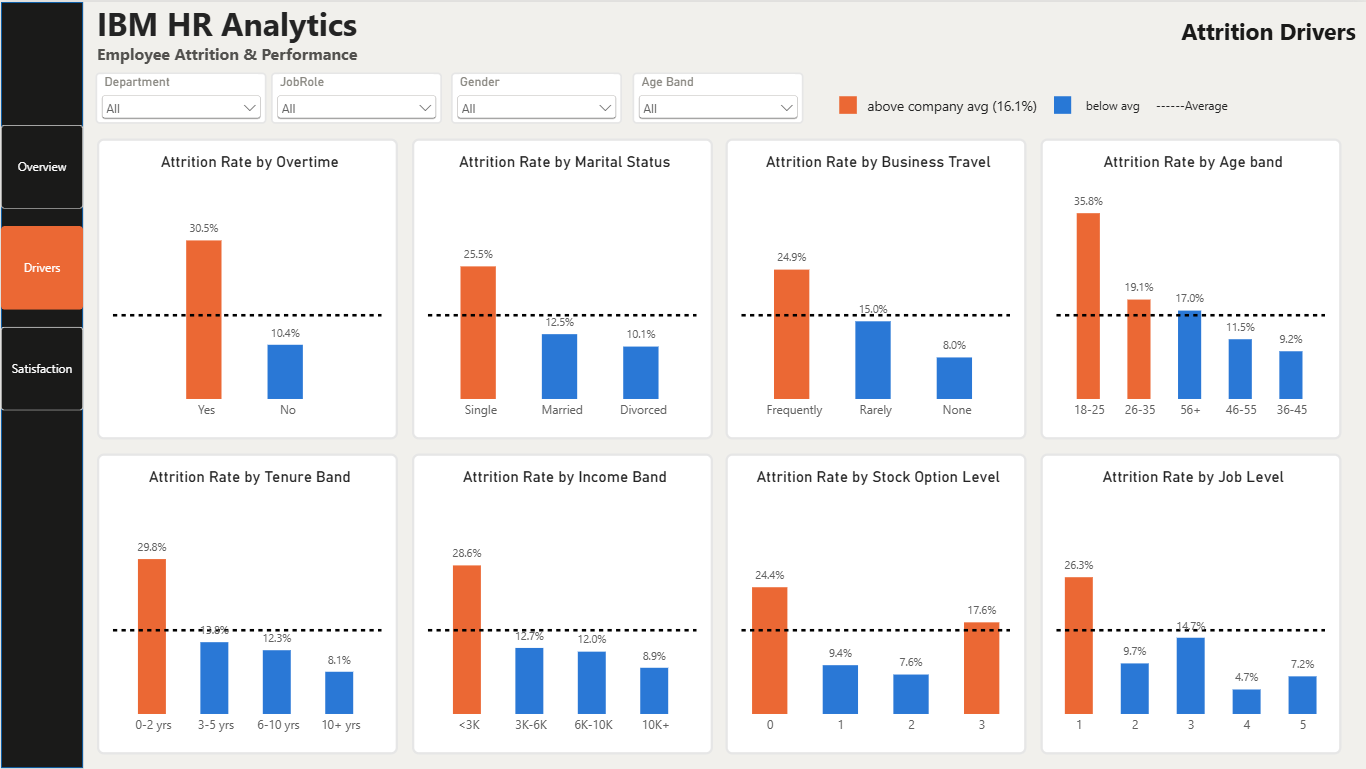

What the dashboard file says about the page in this screenshot:
{"tool":"powerbi","page":{"name":"Drivers","canvas":[1600,900],"ordinal":1},"visuals":[{"type":"shape","box":[0,0,96,896],"z":0},{"type":"shape","box":[980,110,20,20],"z":0,"group":"g1"},{"type":"shape","box":[1230,110,20,20],"z":1000,"group":"g1"},{"type":"pageNavigator","box":[0,144,96,336],"z":1000},{"type":"textbox","box":[112,0,560,64],"z":2000},{"type":"textbox","box":[1008,110,208,80],"z":2000,"group":"g1"},{"type":"textbox","box":[112,48,560,64],"z":3000},{"type":"textbox","box":[1264,110,80,32],"z":3000,"group":"g1"},{"type":"textbox","box":[1168,16,416,48],"z":4000},{"type":"textbox","box":[1350,110,140,24],"z":4000,"group":"g1"},{"type":"slicer","fields":{"Values":["Fact_Employees.Department"]},"box":[110,82,200,60],"z":5000},{"type":"slicer","fields":{"Values":["Fact_Employees.JobRole"]},"box":[316,82,200,60],"z":6000},{"type":"slicer","fields":{"Values":["Fact_Employees.Gender"]},"box":[526,82,200,60],"z":7000},{"type":"slicer","fields":{"Values":["Fact_Employees.Age Band"]},"box":[738,82,200,60],"z":8000},{"type":"group","id":"g1","title":"Group 1","box":[980,110,510,80],"z":9000},{"type":"clusteredColumnChart","title":"Attrition Rate by Overtime","fields":{"Category":["Fact_Employees.OverTime"],"Y":["Measures_.Attrition Rate%"]},"box":[112,160,352,352],"z":10000},{"type":"clusteredColumnChart","title":"Attrition Rate by Marital Status","fields":{"Category":["Fact_Employees.MaritalStatus"],"Y":["Measures_.Attrition Rate%"]},"box":[480,160,352,352],"z":11000},{"type":"clusteredColumnChart","title":"Attrition Rate by Income Band","fields":{"Category":["Fact_Employees.Income Band"],"Y":["Measures_.Attrition Rate%"]},"box":[480,528,352,352],"z":12000},{"type":"clusteredColumnChart","title":"Attrition Rate by Tenure Band","fields":{"Category":["Fact_Employees.Tenure Band"],"Y":["Measures_.Attrition Rate%"]},"box":[112,528,352,352],"z":13000},{"type":"clusteredColumnChart","title":"Attrition Rate by Business Travel","fields":{"Category":["Fact_Employees.Travel Label"],"Y":["Measures_.Attrition Rate%"]},"box":[848,160,352,352],"z":14000},{"type":"clusteredColumnChart","title":"Attrition Rate by Stock Option Level","fields":{"Category":["Fact_Employees.StockOptionLevel"],"Y":["Measures_.Attrition Rate%"]},"box":[848,528,352,352],"z":15000},{"type":"clusteredColumnChart","title":"Attrition Rate by Age band","fields":{"Category":["Fact_Employees.Age Band"],"Y":["Measures_.Attrition Rate%"]},"box":[1216,160,352,352],"z":16000},{"type":"clusteredColumnChart","title":"Attrition Rate by Job Level","fields":{"Category":["Fact_Employees.JobLevel"],"Y":["Measures_.Attrition Rate%"]},"box":[1216,528,352,352],"z":17000}]}

Visuals, with their boxes in screenshot pixels (x1, y1, x2, y2), scaled from the page's 1600x900 canvas onto the 1366x769 screenshot:
shape: box(0, 0, 82, 766)
shape: box(837, 94, 854, 111)
shape: box(1050, 94, 1067, 111)
pageNavigator: box(0, 123, 82, 410)
textbox: box(96, 0, 574, 55)
textbox: box(861, 94, 1038, 162)
textbox: box(96, 41, 574, 96)
textbox: box(1079, 94, 1147, 121)
textbox: box(997, 14, 1352, 55)
textbox: box(1153, 94, 1272, 114)
slicer - Fact_Employees.Department: box(94, 70, 265, 121)
slicer - Fact_Employees.JobRole: box(270, 70, 441, 121)
slicer - Fact_Employees.Gender: box(449, 70, 620, 121)
slicer - Fact_Employees.Age Band: box(630, 70, 801, 121)
"Group 1" group: box(837, 94, 1272, 162)
"Attrition Rate by Overtime" clusteredColumnChart: box(96, 137, 396, 437)
"Attrition Rate by Marital Status" clusteredColumnChart: box(410, 137, 710, 437)
"Attrition Rate by Income Band" clusteredColumnChart: box(410, 451, 710, 752)
"Attrition Rate by Tenure Band" clusteredColumnChart: box(96, 451, 396, 752)
"Attrition Rate by Business Travel" clusteredColumnChart: box(724, 137, 1024, 437)
"Attrition Rate by Stock Option Level" clusteredColumnChart: box(724, 451, 1024, 752)
"Attrition Rate by Age band" clusteredColumnChart: box(1038, 137, 1339, 437)
"Attrition Rate by Job Level" clusteredColumnChart: box(1038, 451, 1339, 752)
